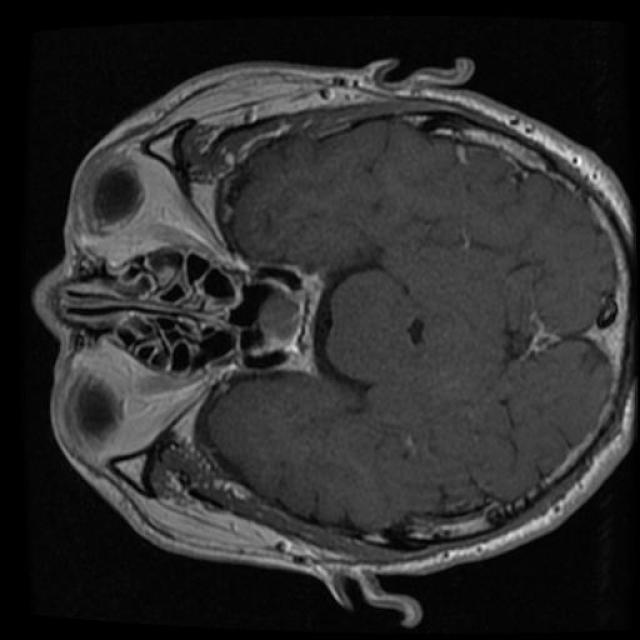Pituitary: (238, 274, 306, 359)
